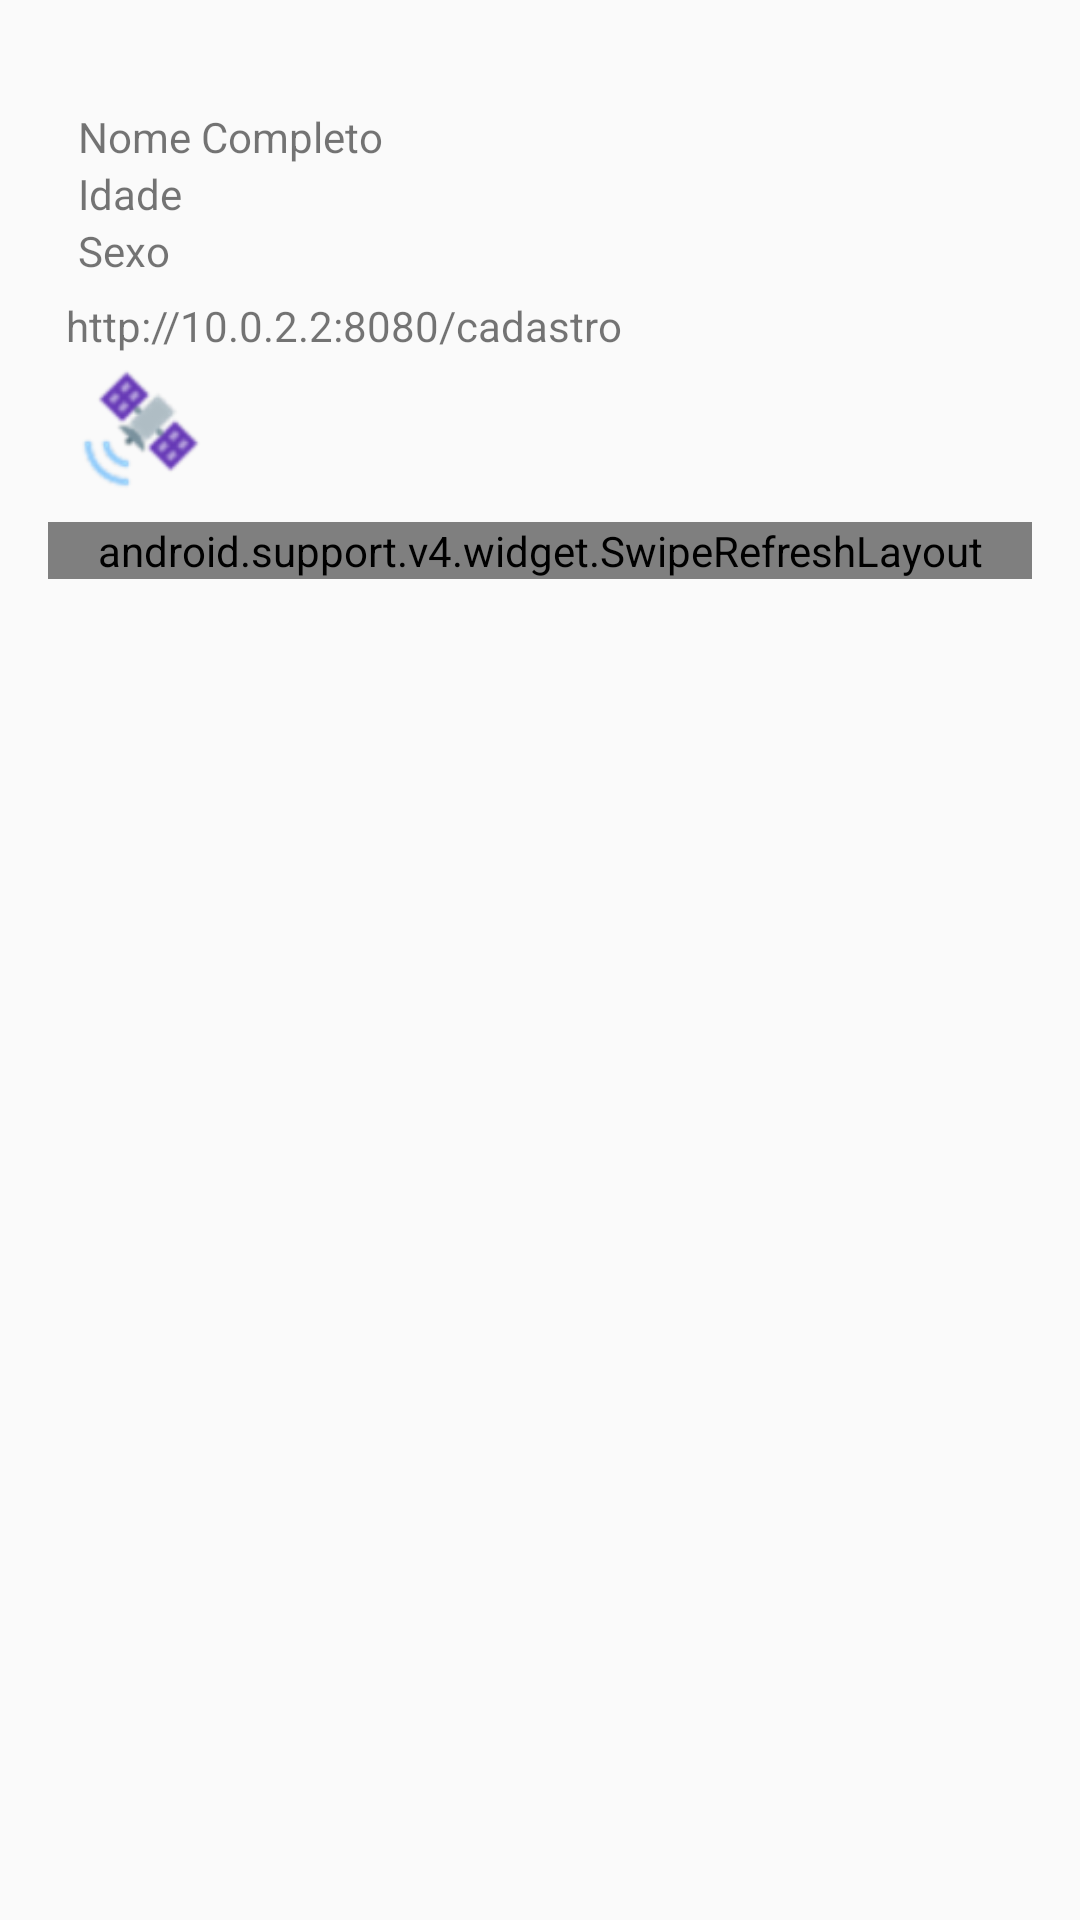

Icon bounding boxes for this 1080px x 1920px phone screenshot, format (x1, y1, x2, y2):
envio sat lite: (84, 372, 198, 486)
